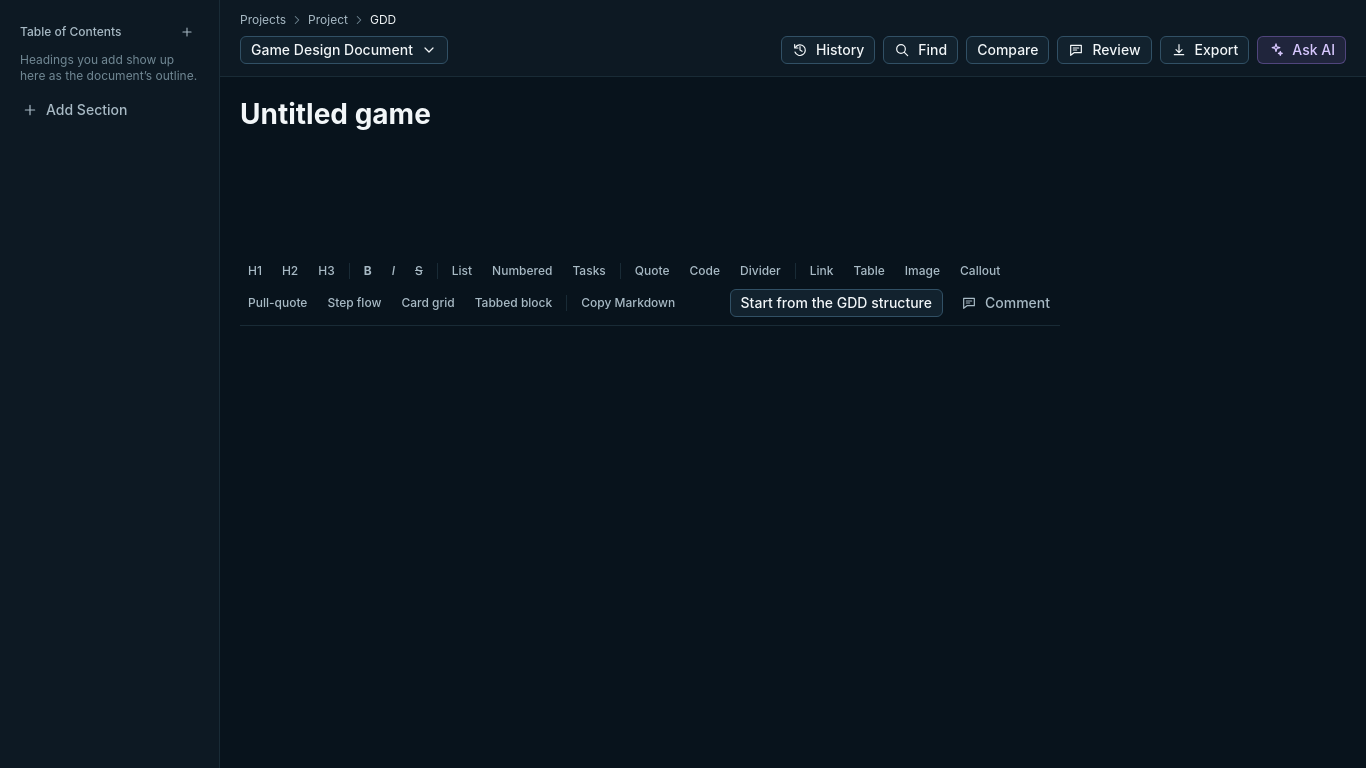
Test: GddWorkspace — the GDD starting structure (#189) › offers to seed an existing empty document, and swaps the seeded body in once applied
The width and height of the screenshot is (1366, 768).
Click the button "Start from the GDD structure". click: (836, 303)
box: [730,289,943,317]
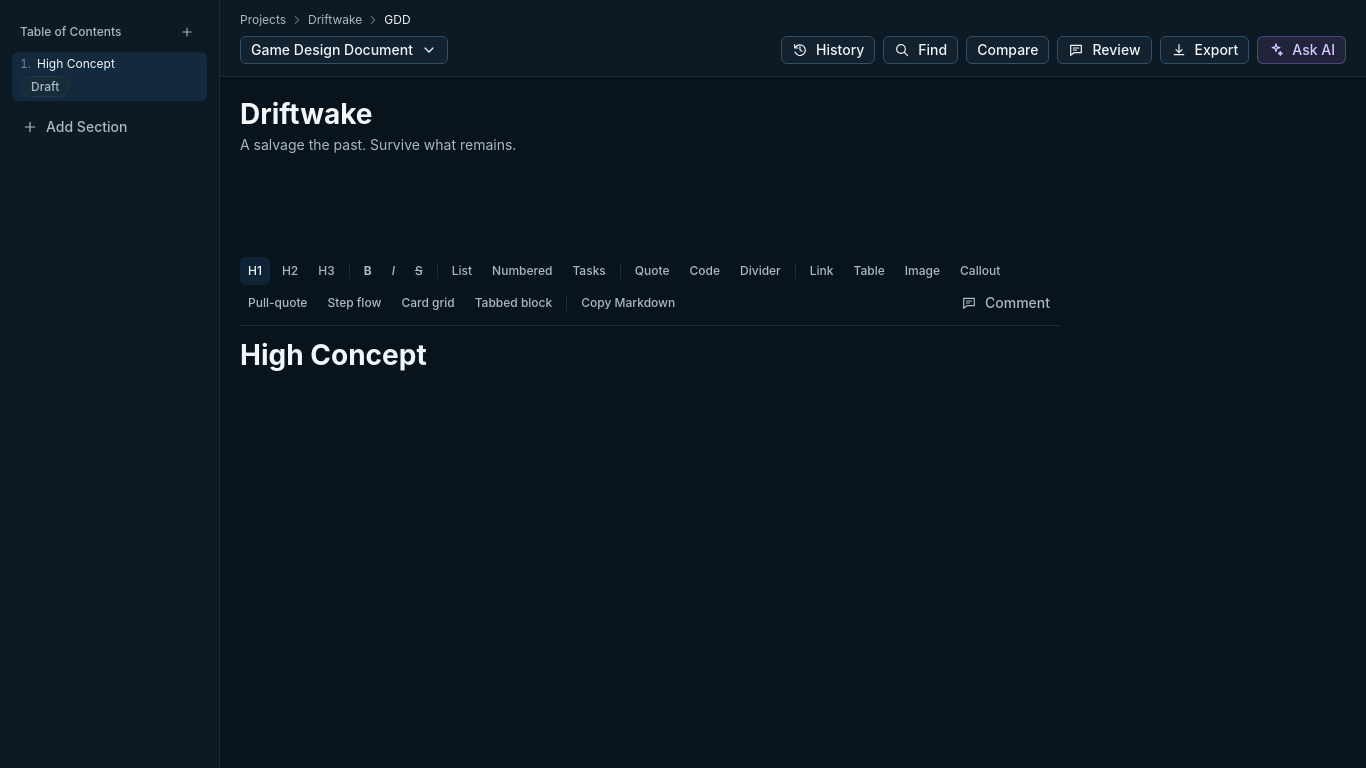
Check: the button "Start from the GDD structure" is gone
